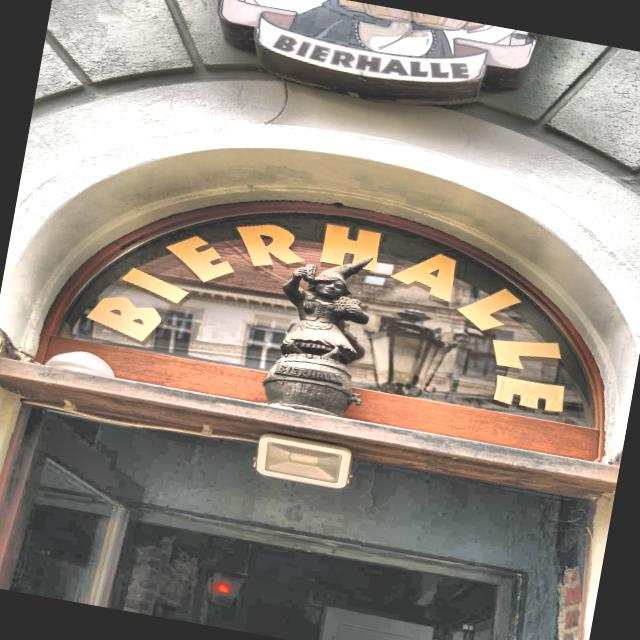Bawarka: (263, 257, 372, 416)
